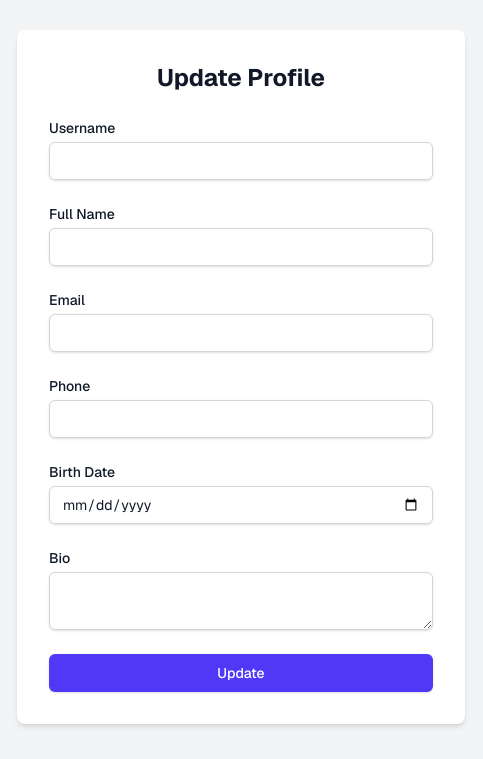
Scenario: ProfilePage › should show validation error for short username
Type "short" into the field labelled "Username".
click(241, 161); type("short")  # box [49,142,433,180]
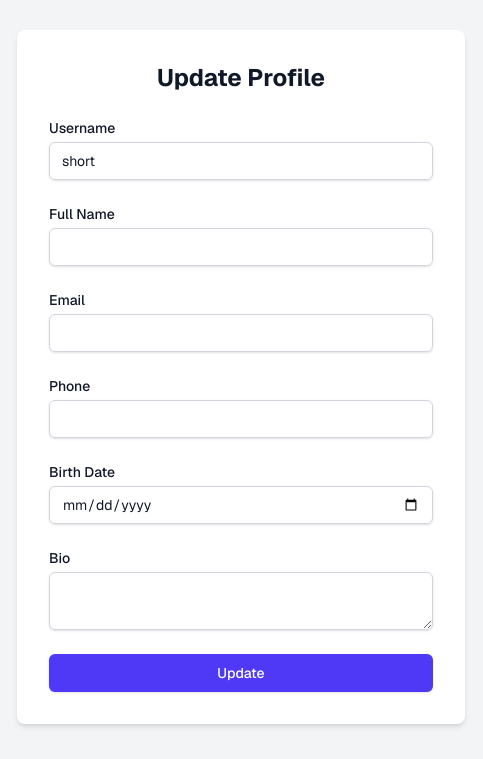
Type "John Doe" into the field labelled "Full Name".
click(241, 247); type("John Doe")  # box [49,228,433,266]
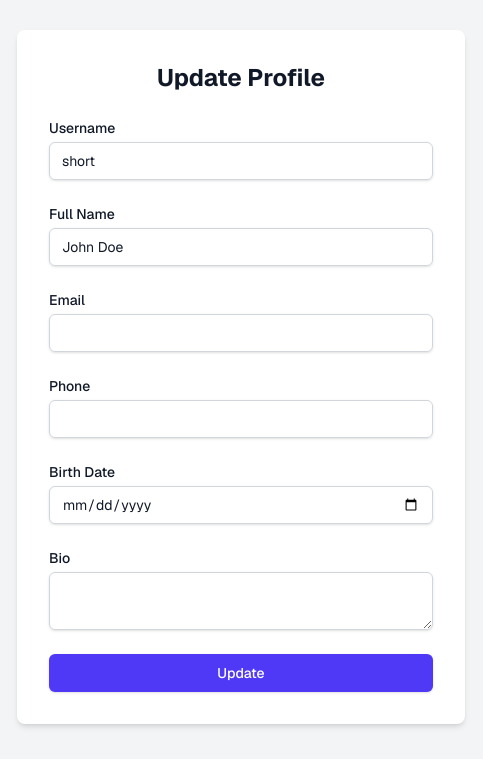
Type "john@example.com" into the field labelled "Email".
click(241, 333); type("john@example.com")  # box [49,314,433,352]
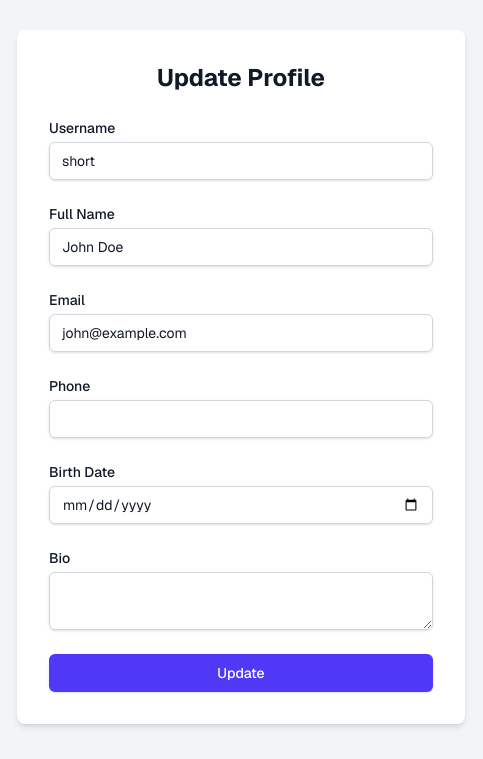
Type "1234567890" into the field labelled "Phone".
click(241, 419); type("1234567890")  # box [49,400,433,438]
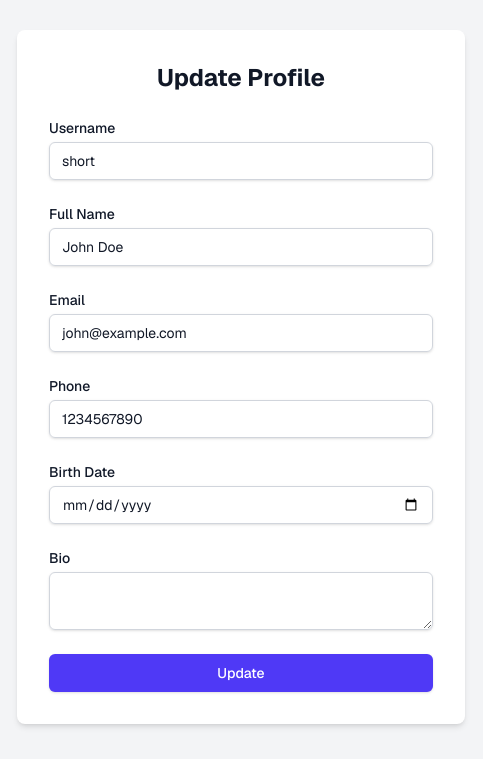
Click the button "Update".
click(241, 673)  # box [49,654,433,692]
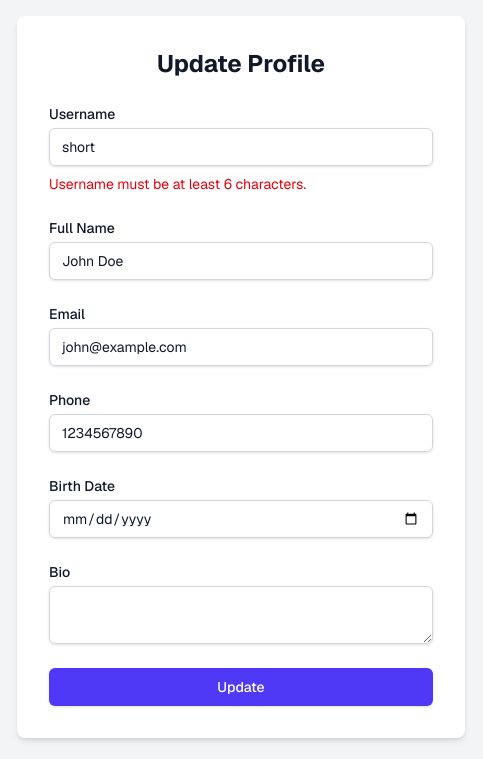
Expected: the text "Username must be at least 6 characters." is shown, [49,175,306,193]
